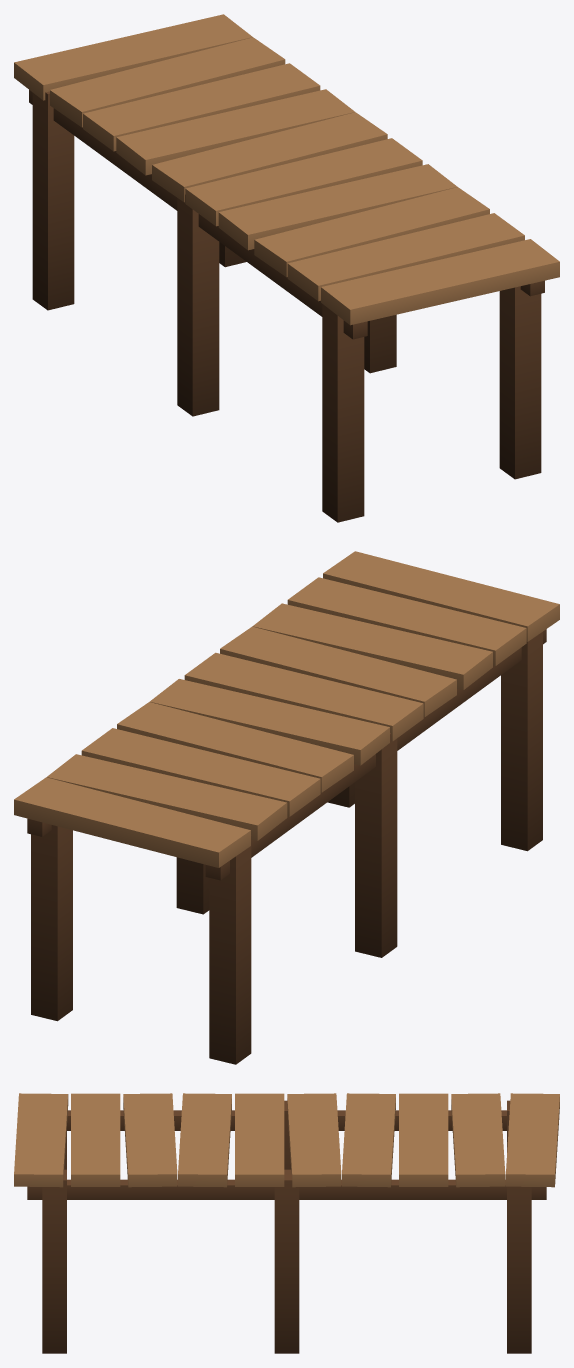
File: C09_pier.glb
3 renders of one model, top to bottom at view 1: azimuth 30°, elevation 25°; view 2: azimuth 150°, elevation 25°; view 3: azimuth 270°, elevation 25°, orthographic. The views are drawn at different scales.
Visible parts, largest first — view 1: C09_pier; view 2: C09_pier; view 3: C09_pier.
Boxes of the visible parts, left/top/right/bottom form: C09_pier: left=14, top=14, right=559, bottom=522; C09_pier: left=14, top=551, right=559, bottom=1064; C09_pier: left=14, top=1093, right=559, bottom=1353.
Size of the model in its own units: 1.41 by 1.45 by 4.
